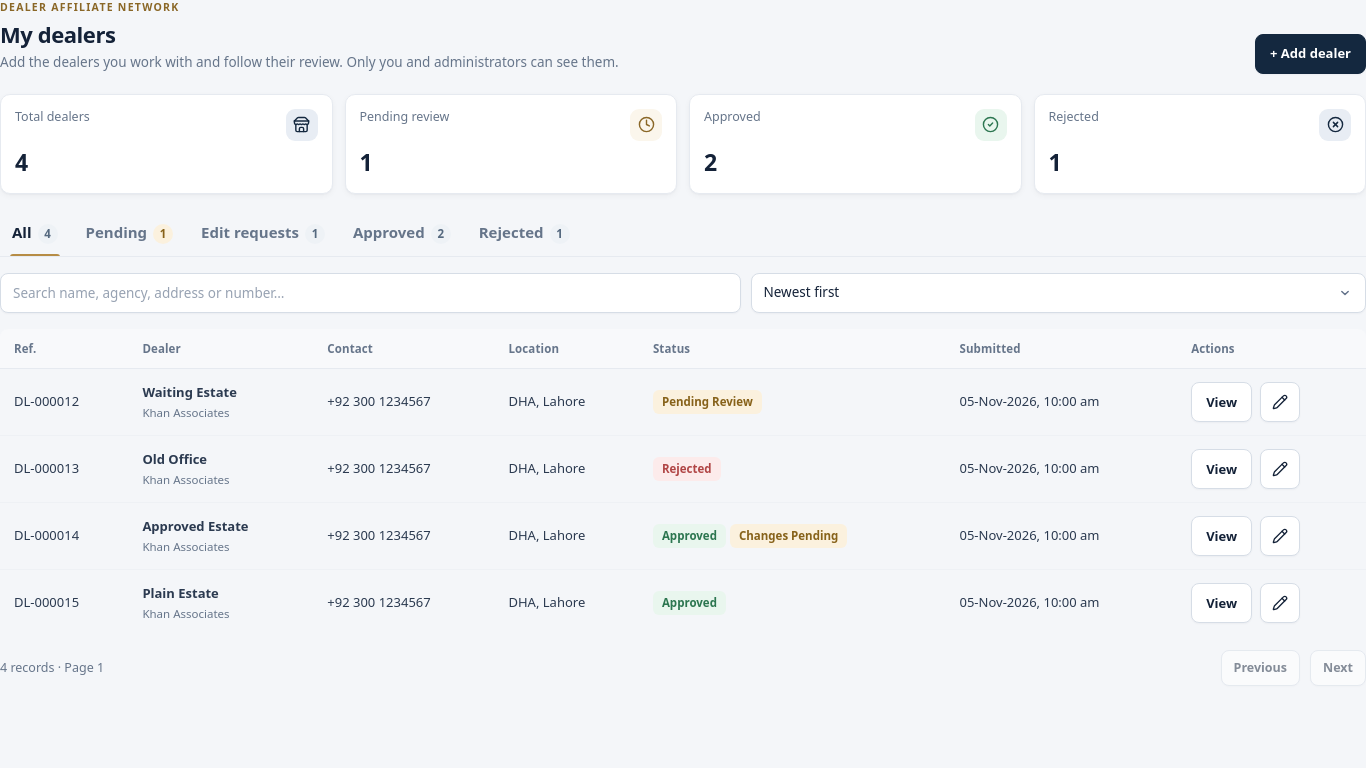
Test case: an agent's My dealers › revises the changes waiting for approval, starting from them
This screenshot has width=1366, height=768.
Click the button named "Edit Approved Estate" at (1280, 536), box [1260, 516, 1300, 556]
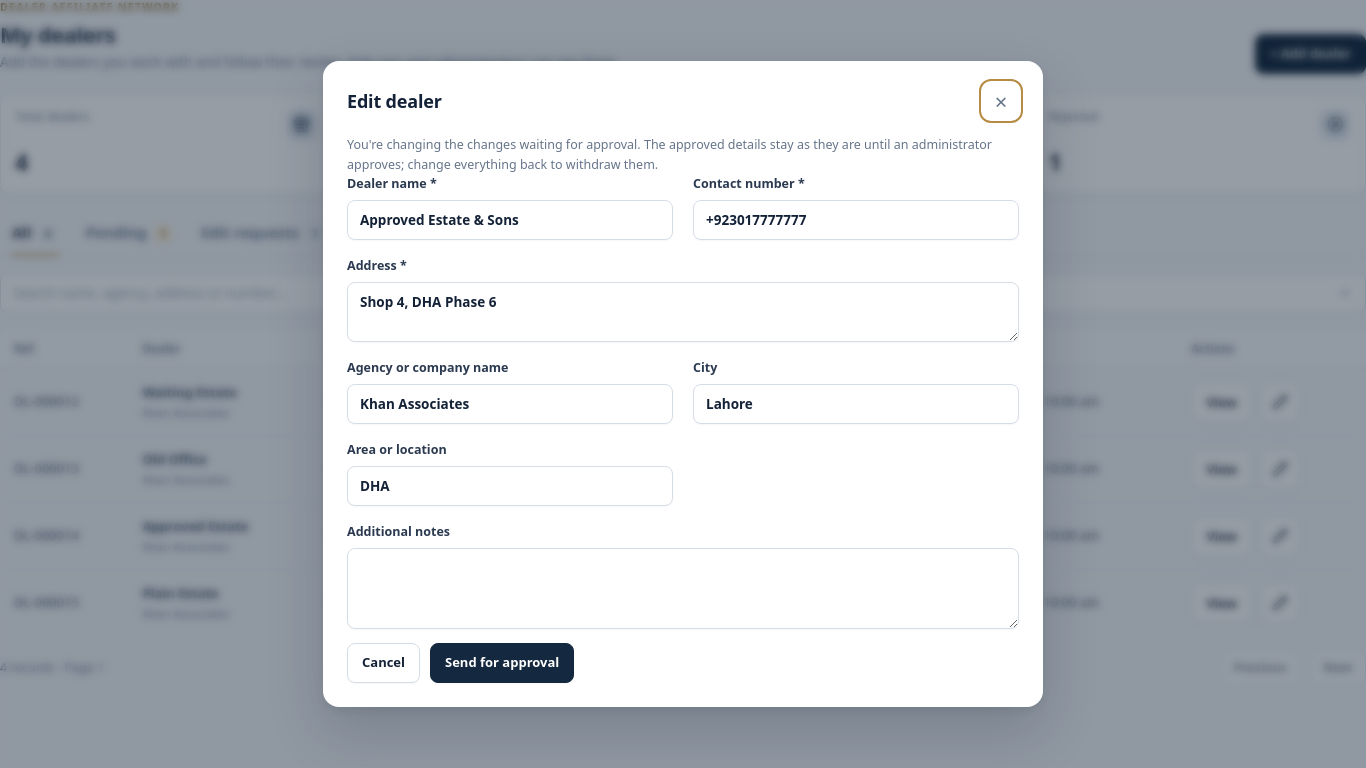
Expected: the dialog "Edit dealer" shows "You're changing the changes waiting for approval.", [347, 136, 992, 173]
Expected: the field labelled "Dealer name *" holds "Approved Estate & Sons", [347, 200, 673, 240]
Expected: the field labelled "Contact number *" holds "+923017777777", [693, 200, 1019, 240]
Replace the text in the field labelled "City" with "Islamabad" at (856, 404), box [693, 384, 1019, 424]
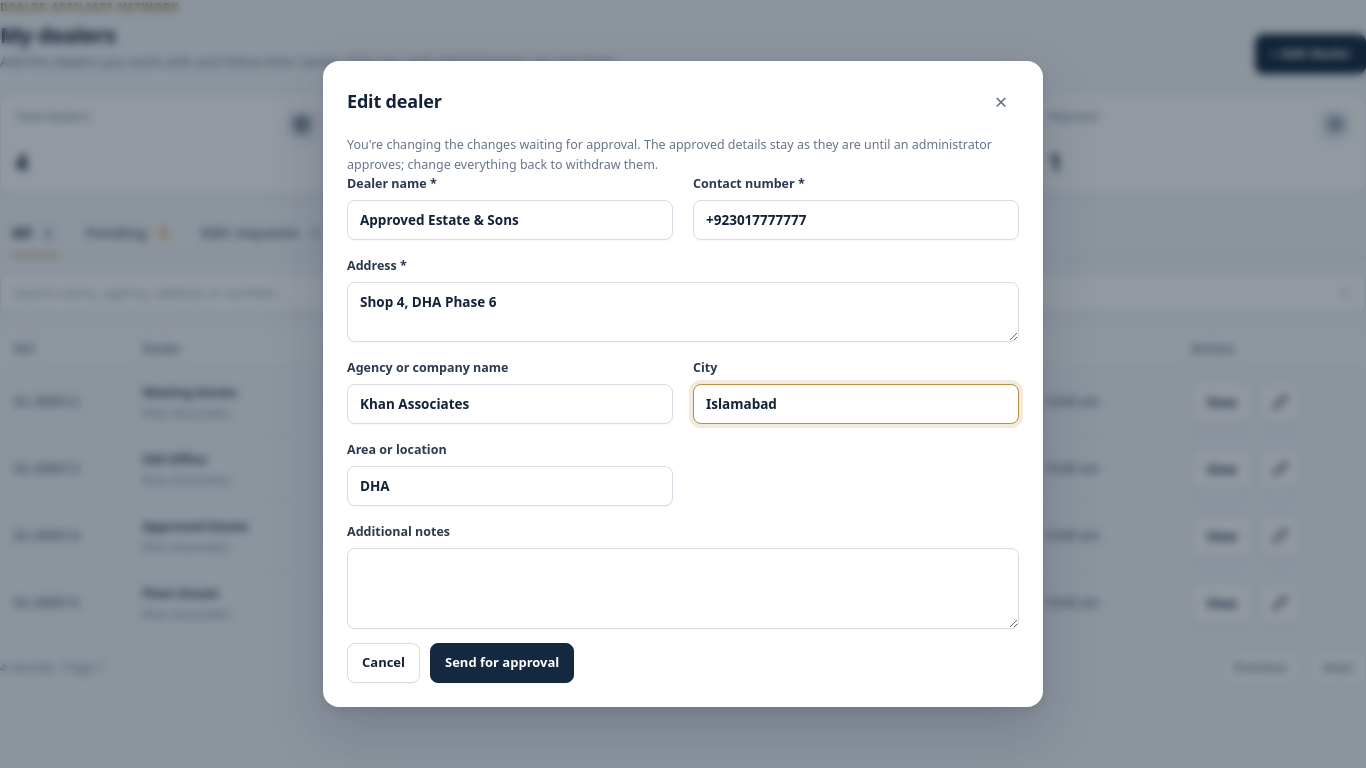
Click the button "Send for approval" at (502, 663), box [430, 643, 574, 683]
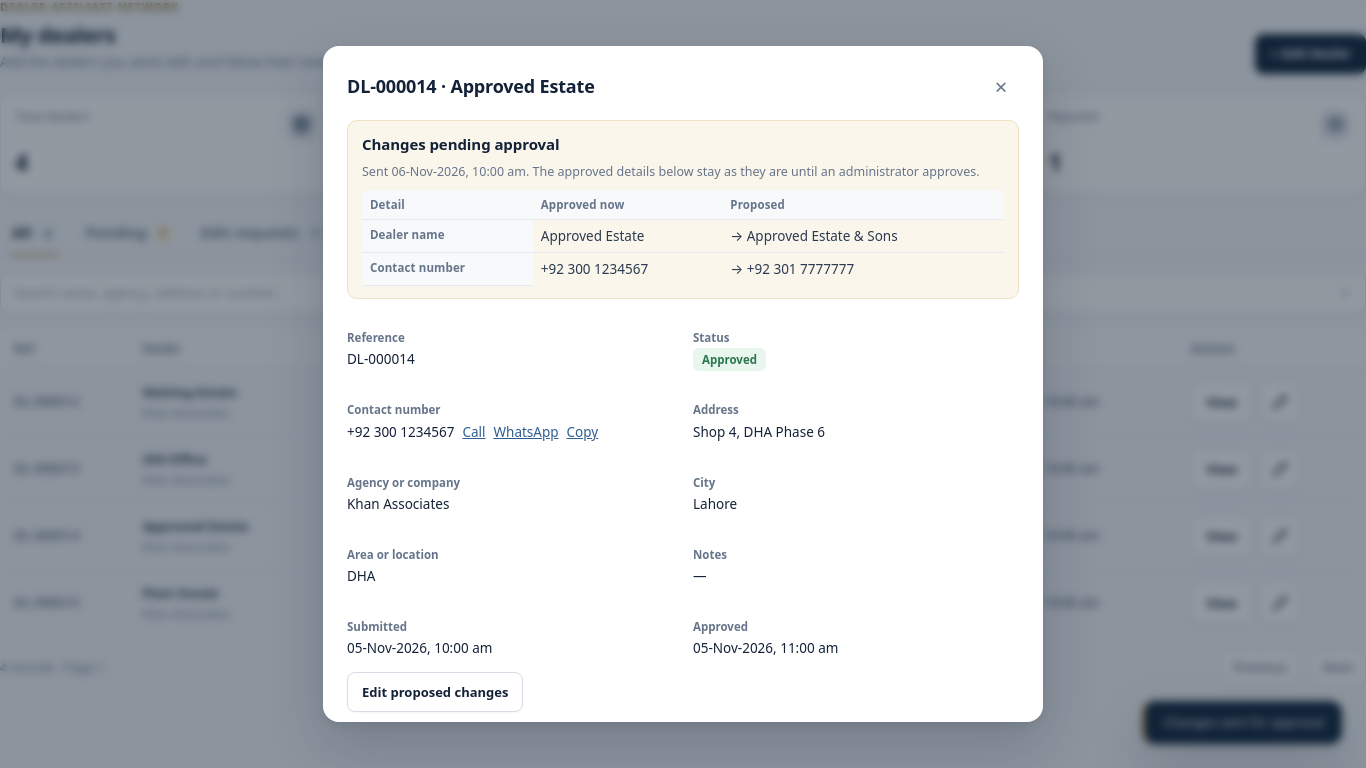
Expected: the text "Changes sent for approval" is shown, [1142, 700, 1342, 744]
